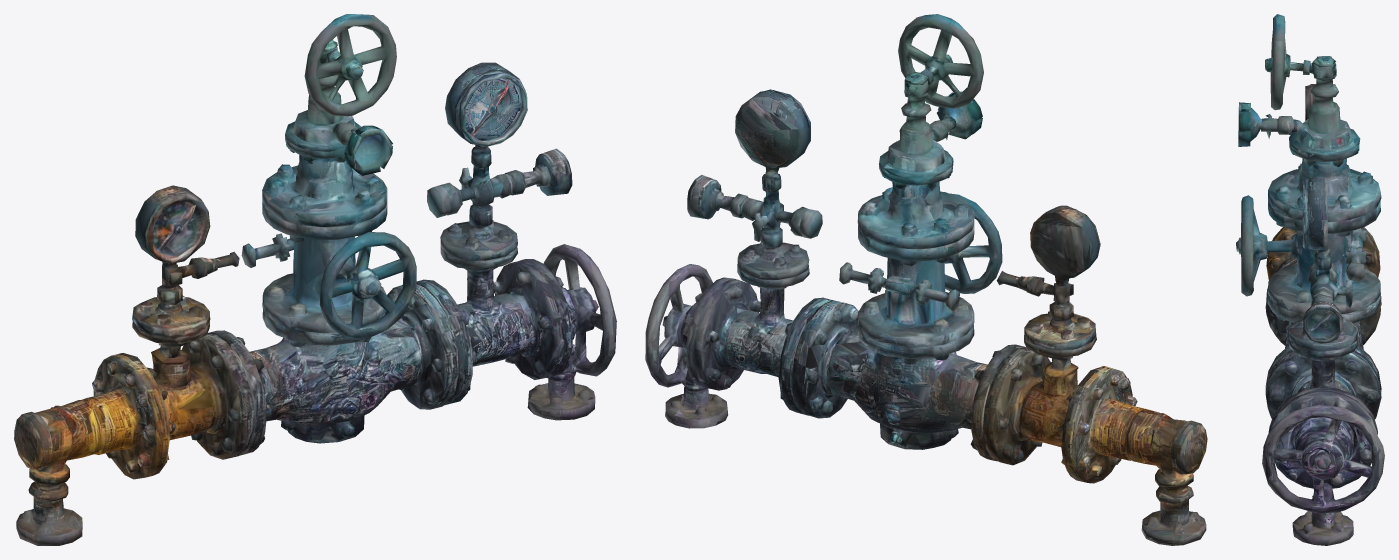
The model's file is GM_IndustrialPipe_Soft.glb.
3 renders of one model, left to right at view 1: azimuth 30°, elevation 25°; view 2: azimuth 150°, elevation 25°; view 3: azimuth 270°, elevation 25°, orthographic. The views are drawn at different scales.
Parts seen in each view (by area): view 1: tripo_node_21f9bcee-c894-439e-ad22-8fcc9dd5ccca; view 2: tripo_node_21f9bcee-c894-439e-ad22-8fcc9dd5ccca; view 3: tripo_node_21f9bcee-c894-439e-ad22-8fcc9dd5ccca.
Part boxes in pixels (x1,y1,x2,y2): tripo_node_21f9bcee-c894-439e-ad22-8fcc9dd5ccca: (14, 14, 616, 545); tripo_node_21f9bcee-c894-439e-ad22-8fcc9dd5ccca: (645, 14, 1207, 545); tripo_node_21f9bcee-c894-439e-ad22-8fcc9dd5ccca: (1236, 14, 1384, 545).
Bounding box in the file's own units: 0.9814 × 0.7627 × 0.2486.
1 material, 1 textured.
